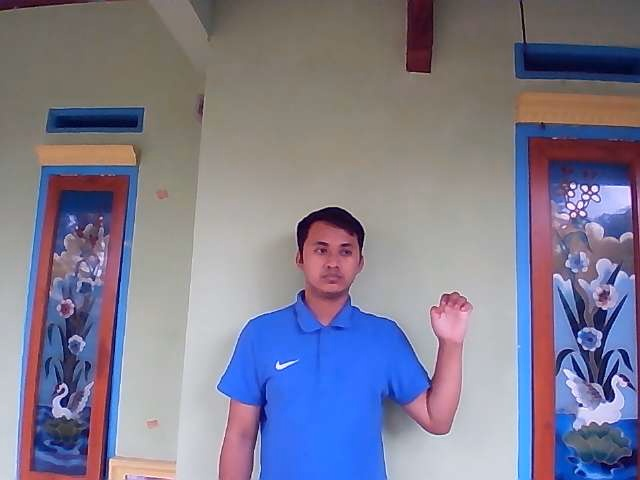E: (428, 290, 473, 343)
